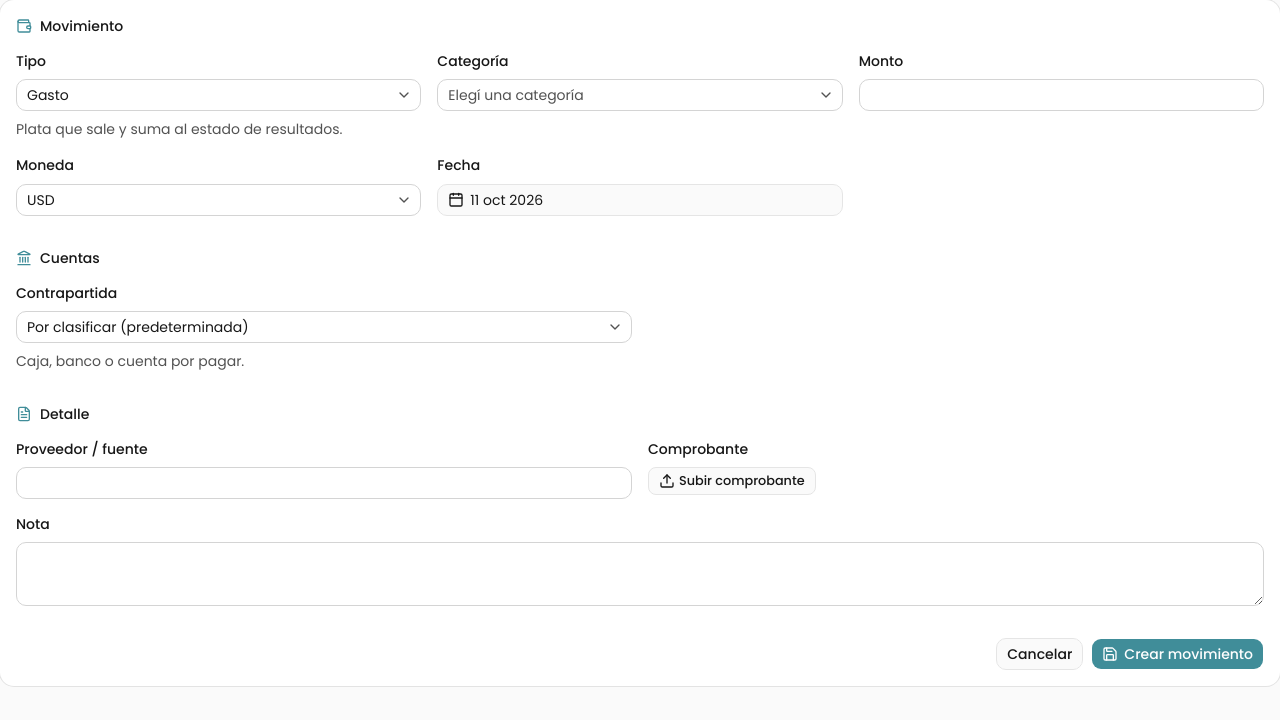
FinanceEntryForm — las cuentas se filtran por moneda › con USD no ofrece una cuenta en colones
Click the dropdown named "Moneda".
click(41, 200)  # box [16,184,421,216]
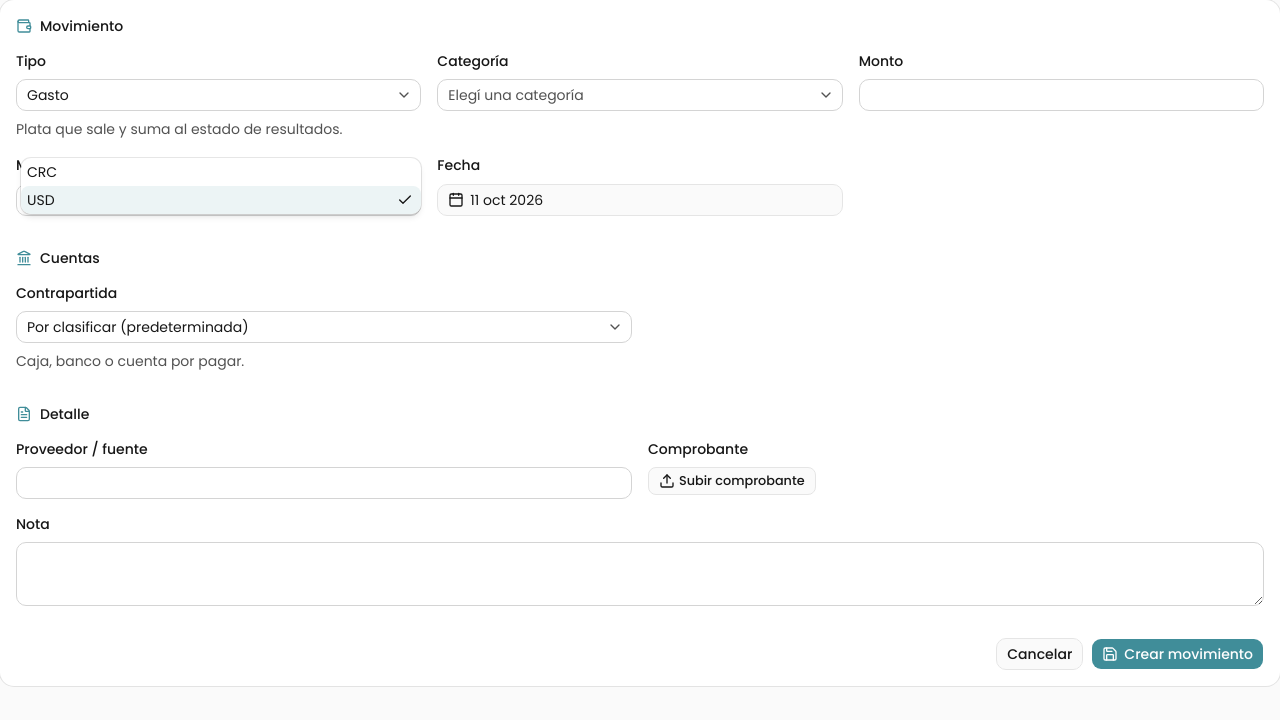
Click the option "USD".
click(405, 200)  # box [21,186,421,214]
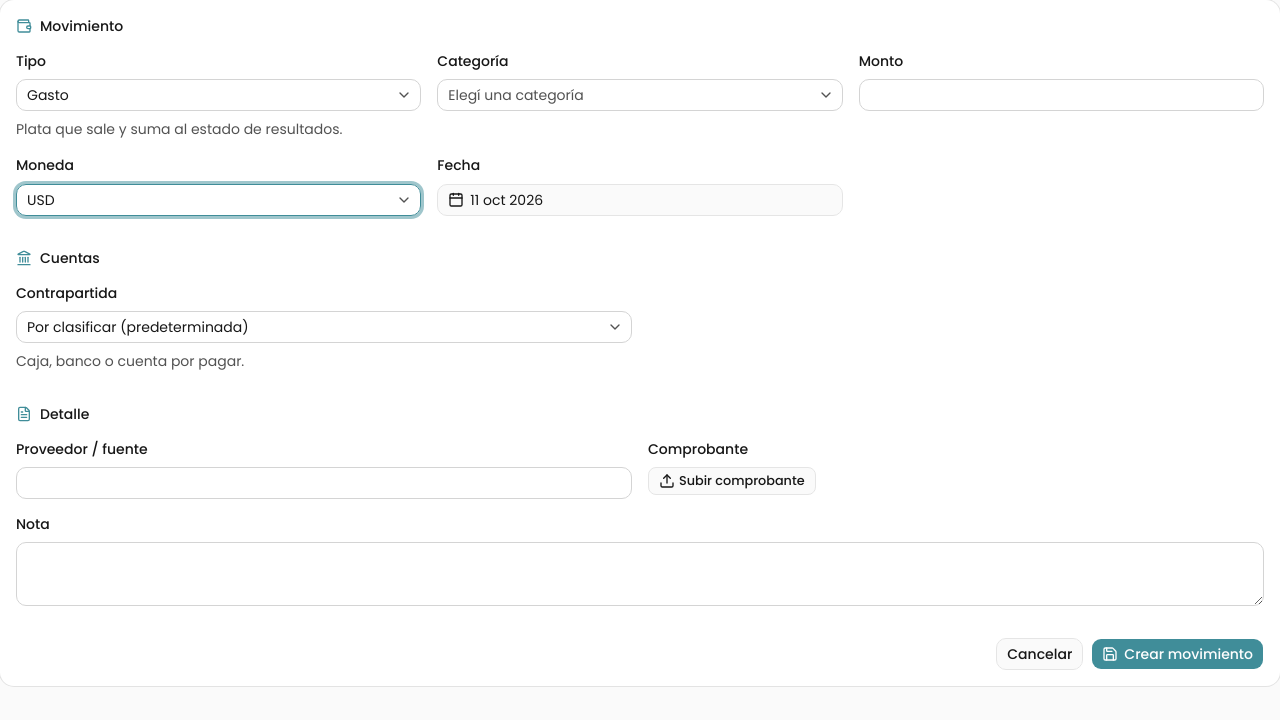
Click the dropdown named "Contrapartida".
click(138, 327)  # box [16,311,632,343]
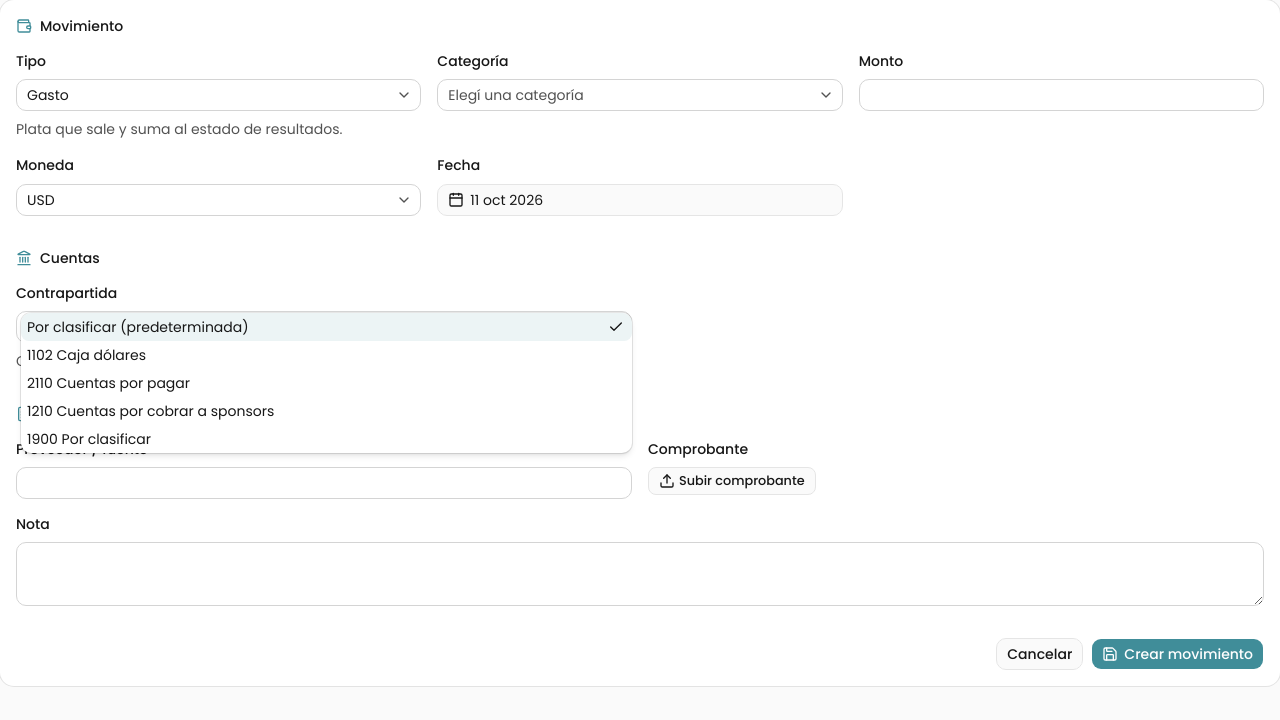
expect the option "1102 Caja dólares" is shown: met, box [27,345,146,365]
expect the option "2110 Cuentas por pagar" is shown: met, box [27,373,190,393]
